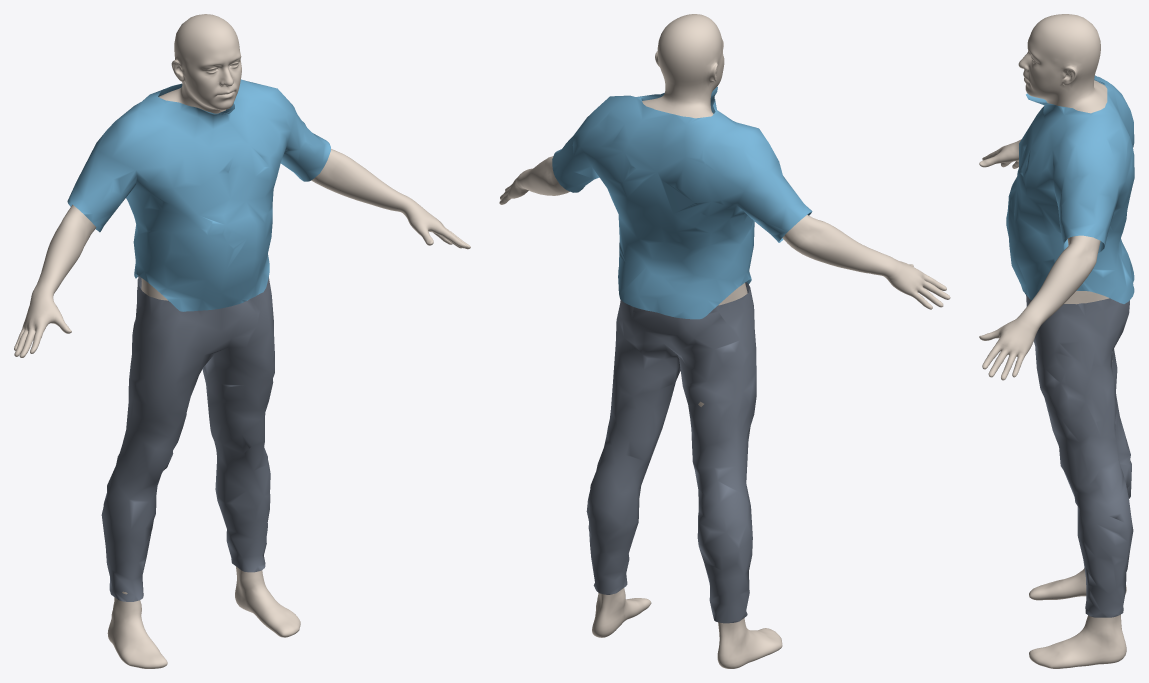
Rendered from rest.glb.
3 renders of one model, left to right at view 1: azimuth 30°, elevation 25°; view 2: azimuth 150°, elevation 25°; view 3: azimuth 270°, elevation 25°, orthographic.
Parts seen in each view (by area): view 1: shirt, pants, body; view 2: shirt, pants, body; view 3: pants, shirt, body.
Boxes of the visible parts, x1,y1,x2,y2 form: shirt: [67, 79, 330, 311]; pants: [101, 275, 274, 601]; body: [14, 14, 470, 668]; shirt: [552, 87, 812, 319]; pants: [586, 282, 756, 623]; body: [499, 14, 950, 668]; pants: [1026, 295, 1133, 617]; shirt: [1006, 75, 1134, 303]; body: [979, 14, 1126, 668].
Size of the model in its own units: 1.34 by 1.78 by 0.4087.
